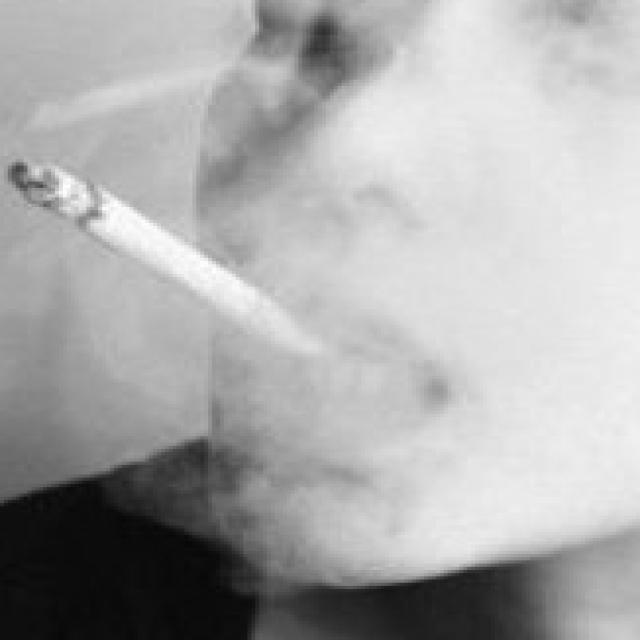smoking: (11, 158, 327, 366)
